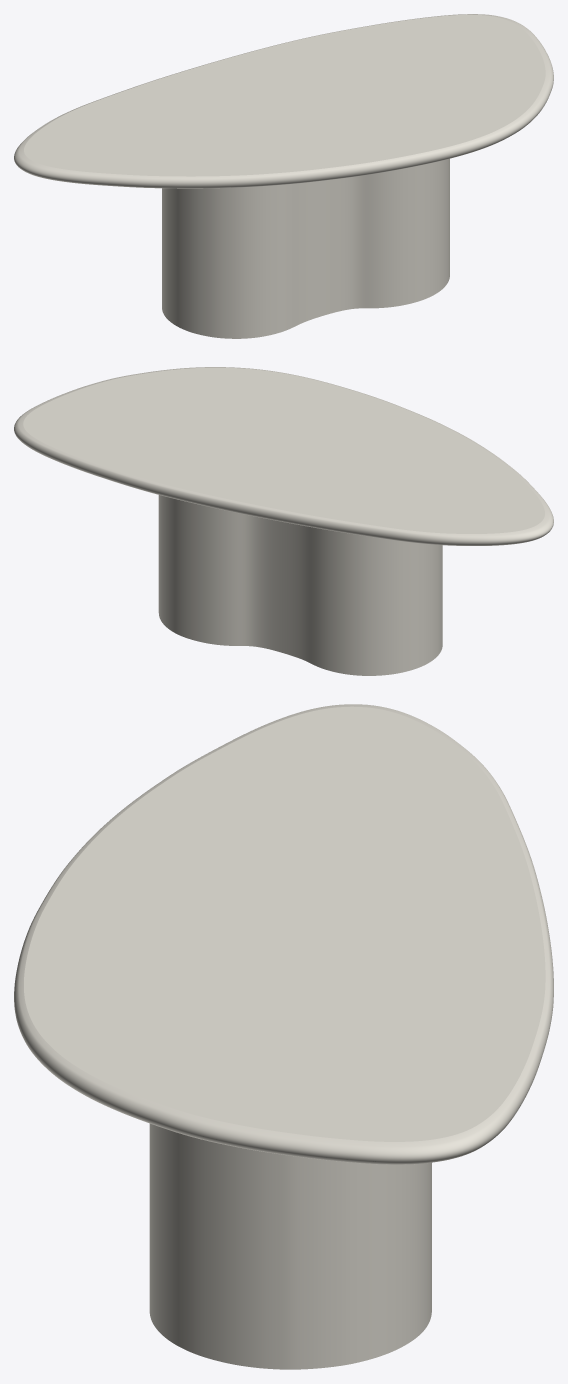
The model's file is pale_pebbletop_round_riverwave.glb.
3 views of the same model, one above another, from view 1: azimuth 30°, elevation 25°; view 2: azimuth 150°, elevation 25°; view 3: azimuth 270°, elevation 25° (orthographic). The views are drawn at different scales.
Visible parts, largest first — view 1: round_pebbletop, riverwave; view 2: round_pebbletop, riverwave; view 3: round_pebbletop, riverwave.
Boxes of the visible parts, x1,y1,x2,y2 form: round_pebbletop: (14,14,553,188); riverwave: (162,158,449,338); round_pebbletop: (14,367,553,545); riverwave: (158,495,442,675); round_pebbletop: (14,704,553,1164); riverwave: (149,1123,431,1369).
Size of the model in its own units: 7.5 by 2.51 by 3.8.
1 material, 1 textured.
